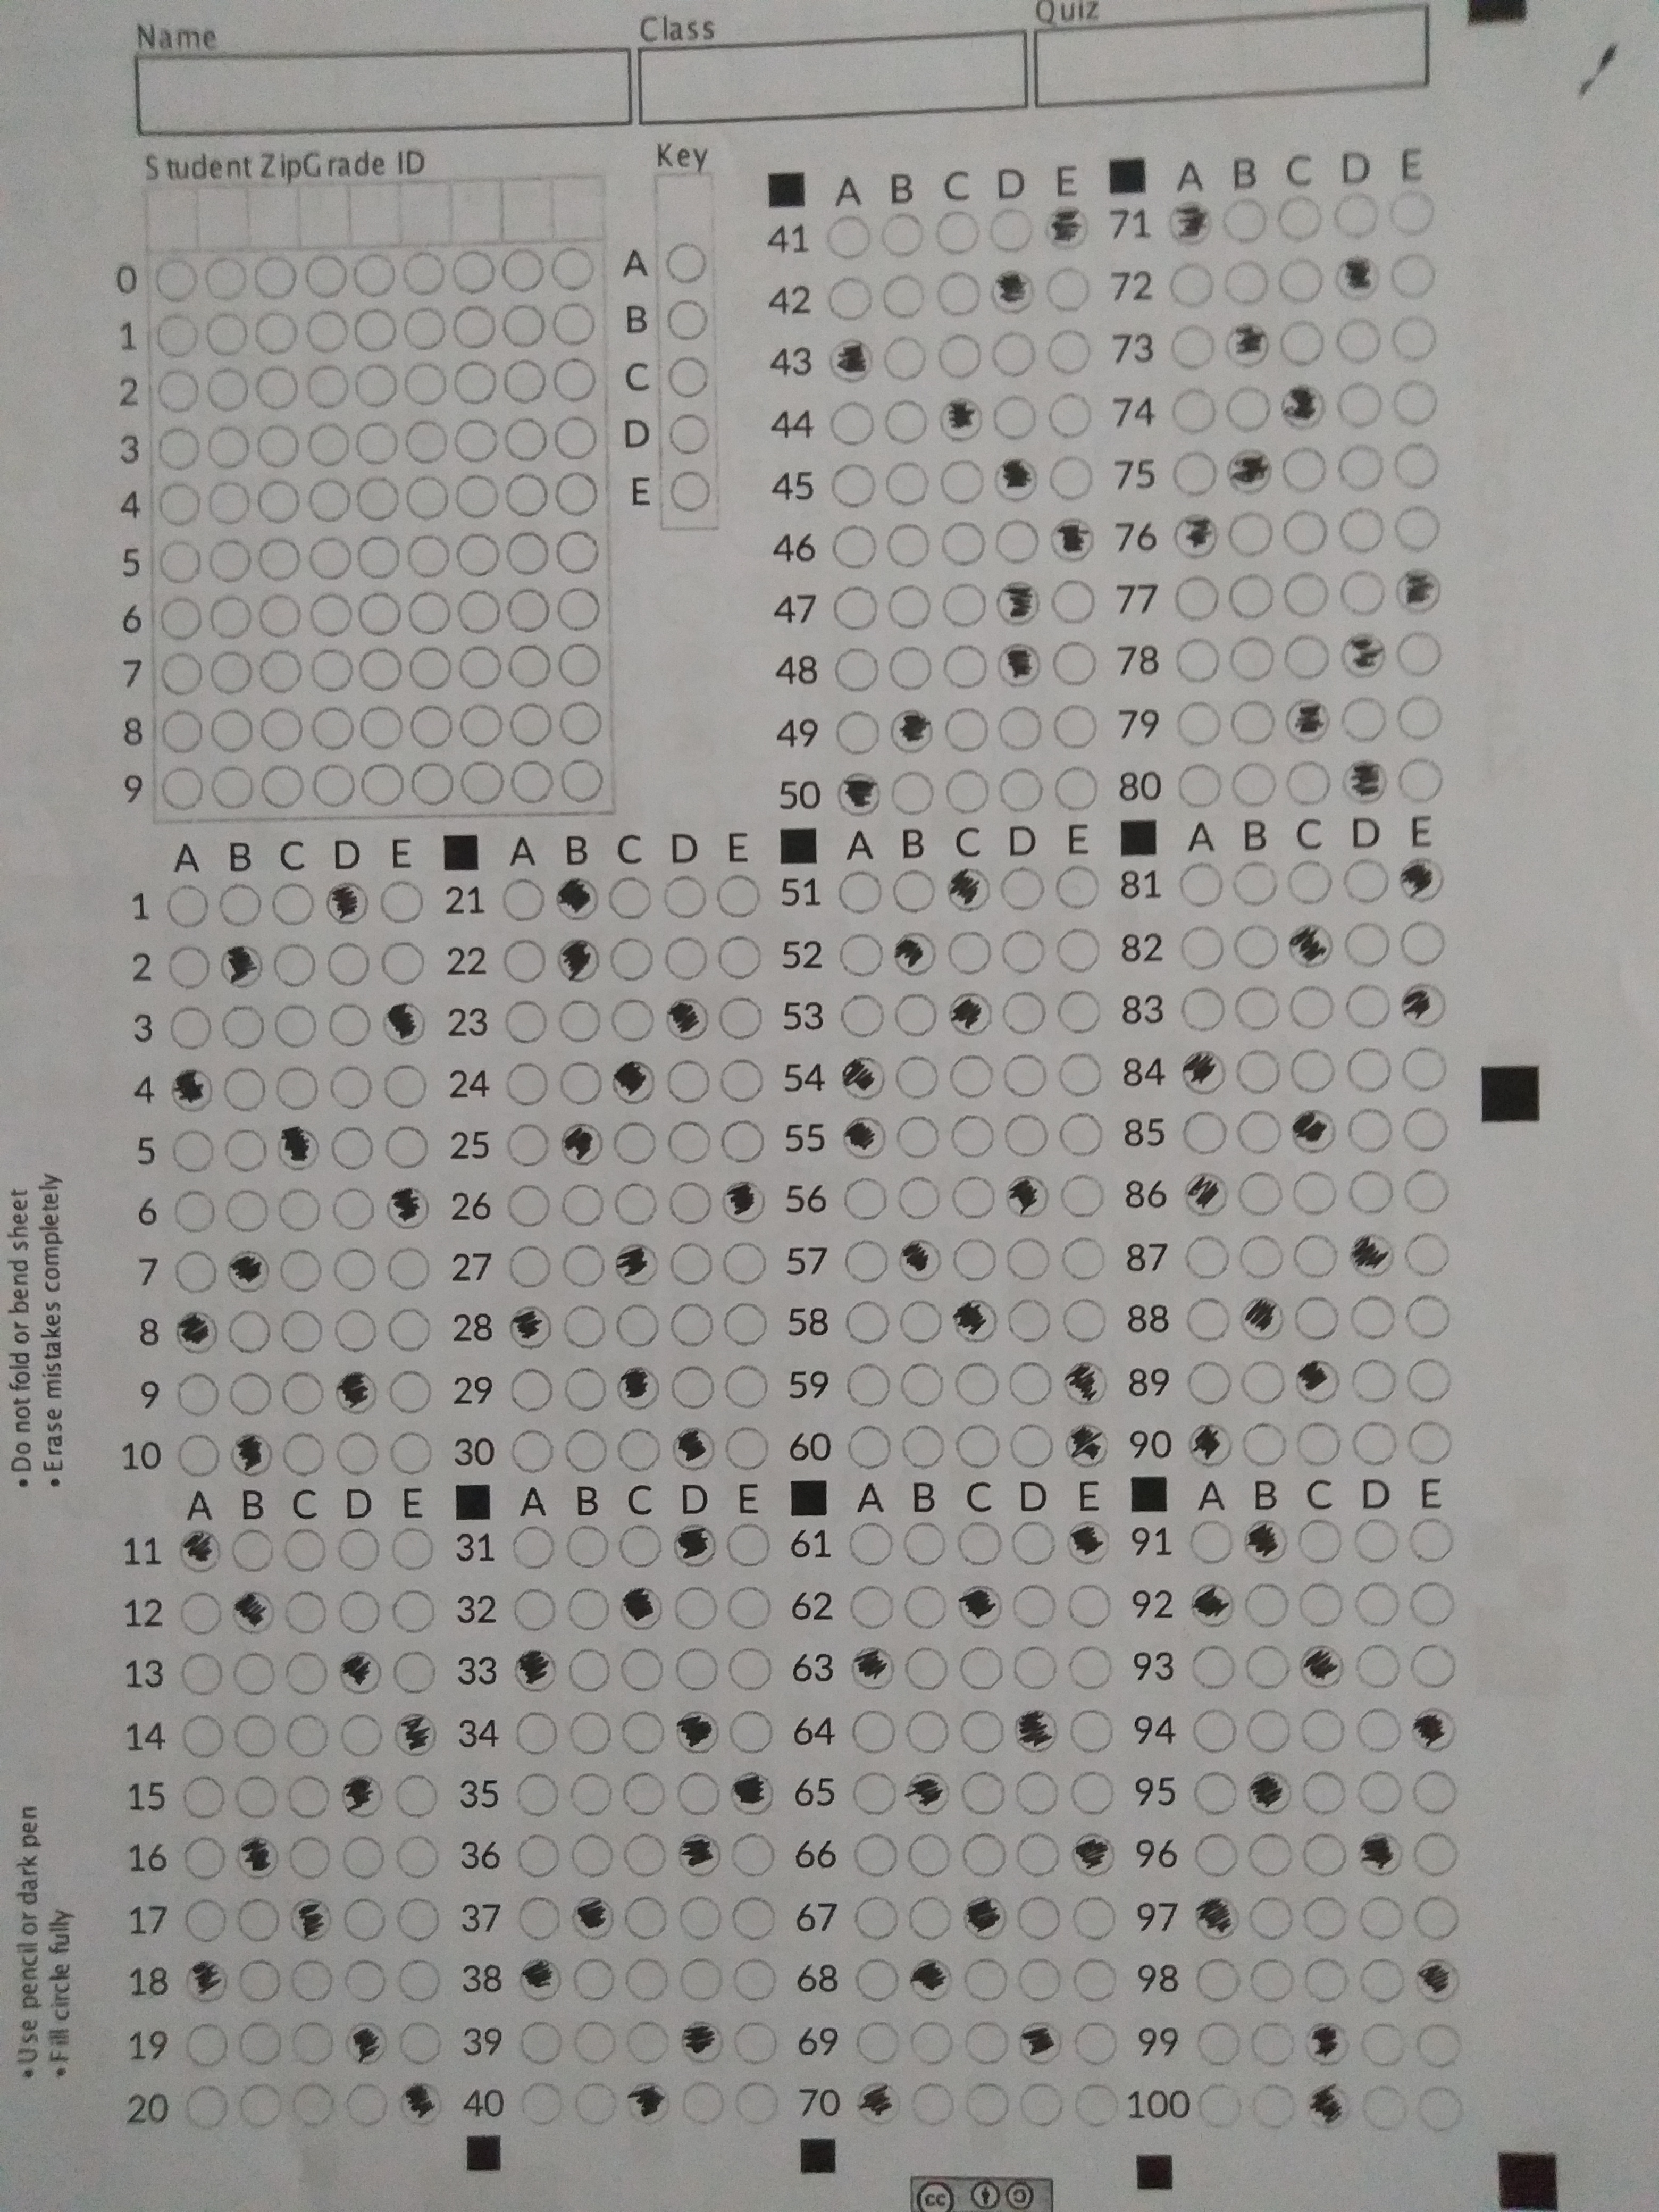not-c: (1363, 2083, 1410, 2132), (352, 253, 397, 298), (253, 254, 298, 300), (204, 256, 249, 301), (157, 540, 202, 585), (305, 364, 350, 409), (254, 366, 300, 411), (204, 368, 249, 413), (406, 533, 451, 578), (455, 533, 500, 578), (504, 416, 549, 462), (404, 420, 450, 465), (354, 420, 399, 465), (556, 641, 601, 686), (455, 474, 500, 519), (460, 759, 505, 805), (507, 702, 552, 747), (509, 758, 554, 803), (359, 646, 404, 691), (159, 650, 204, 695), (505, 589, 551, 634), (357, 590, 403, 636), (274, 1003, 319, 1049), (272, 942, 317, 988), (218, 881, 263, 927), (209, 707, 254, 752), (333, 1247, 378, 1292), (382, 1064, 427, 1109), (167, 1005, 213, 1050), (220, 1003, 265, 1049), (387, 1306, 432, 1352), (279, 1308, 324, 1353), (227, 1308, 272, 1353), (277, 1188, 322, 1233), (179, 1651, 225, 1696), (284, 1649, 329, 1695), (392, 1648, 437, 1693), (235, 1958, 281, 2003), (396, 1895, 441, 1940), (342, 1897, 387, 1942), (235, 1895, 281, 1940), (286, 1834, 331, 1879), (286, 1773, 331, 1818), (181, 1775, 227, 1820), (181, 1712, 227, 1757), (572, 2019, 617, 2064), (734, 2080, 779, 2125), (573, 2080, 619, 2125), (519, 2081, 565, 2127), (185, 2085, 230, 2130), (291, 2081, 336, 2127), (237, 2019, 282, 2064), (516, 1832, 561, 1878), (565, 1428, 610, 1474), (727, 1585, 772, 1630), (620, 1709, 666, 1754), (565, 1524, 610, 1569), (561, 1242, 606, 1287), (505, 1122, 551, 1167), (669, 1242, 714, 1287), (1053, 641, 1098, 686), (610, 998, 655, 1043), (505, 1062, 551, 1108), (1000, 930, 1046, 975), (838, 932, 884, 977), (838, 871, 884, 916), (936, 209, 981, 254), (995, 519, 1040, 564), (885, 462, 931, 507), (829, 401, 875, 446), (945, 768, 990, 813), (1053, 704, 1098, 749), (945, 705, 990, 751), (1403, 1167, 1448, 1212), (1006, 1237, 1051, 1282), (1241, 1359, 1286, 1404), (1187, 1360, 1232, 1406), (1185, 1235, 1230, 1280), (1183, 1109, 1229, 1155), (955, 1423, 1000, 1468), (847, 1425, 892, 1470), (950, 1176, 995, 1221), (896, 1176, 941, 1221), (950, 1113, 995, 1158), (896, 1113, 941, 1158), (894, 1054, 939, 1099), (948, 1052, 993, 1097), (904, 1709, 950, 1754), (904, 1646, 950, 1691), (1061, 1235, 1107, 1280), (1016, 1832, 1061, 1878), (1014, 1770, 1060, 1815), (1359, 1895, 1405, 1940), (1361, 2020, 1406, 2066), (1249, 2019, 1295, 2064), (1406, 1357, 1452, 1402), (1352, 1357, 1398, 1402), (1354, 1580, 1399, 1625), (1190, 1519, 1236, 1564), (1356, 1642, 1401, 1688), (1246, 1644, 1291, 1689), (1300, 1707, 1345, 1752), (1194, 1770, 1239, 1815), (1234, 923, 1279, 968), (1290, 984, 1335, 1029), (1345, 982, 1391, 1028), (1403, 1106, 1448, 1151), (1293, 1233, 1338, 1278), (1176, 637, 1222, 683), (1230, 636, 1276, 681), (1284, 634, 1330, 679), (1178, 763, 1223, 808), (1398, 756, 1443, 801), (1394, 442, 1439, 488), (1229, 573, 1274, 618), (1394, 381, 1439, 427), (1335, 317, 1380, 362), (1279, 320, 1324, 366), (209, 594, 253, 639), (551, 247, 596, 291), (451, 249, 495, 294), (403, 251, 446, 296), (551, 301, 596, 345), (502, 301, 545, 347), (453, 305, 498, 348), (404, 305, 448, 350), (354, 307, 399, 350), (305, 308, 349, 354), (206, 310, 249, 355), (155, 312, 199, 357), (305, 254, 349, 300), (159, 481, 202, 526), (502, 359, 547, 402), (403, 361, 446, 406), (354, 364, 399, 408), (357, 535, 401, 580), (308, 535, 352, 580), (256, 538, 301, 582), (207, 538, 251, 583), (505, 531, 549, 577), (556, 529, 599, 575), (307, 421, 350, 467), (256, 423, 300, 469), (310, 592, 354, 637), (458, 644, 502, 690), (507, 644, 551, 690), (556, 587, 601, 631), (505, 472, 549, 517), (404, 475, 450, 519), (357, 475, 401, 521), (410, 704, 453, 749), (410, 759, 453, 805), (458, 702, 502, 747), (561, 756, 605, 801), (408, 644, 451, 690), (312, 646, 355, 691), (159, 596, 204, 639), (457, 590, 502, 634), (408, 590, 451, 636), (328, 1001, 371, 1047), (380, 939, 423, 984), (167, 946, 211, 991), (272, 881, 315, 927), (167, 883, 211, 928), (261, 763, 305, 808), (160, 765, 204, 810), (361, 705, 406, 749), (310, 705, 355, 749), (258, 705, 301, 751), (279, 1249, 324, 1292), (387, 1245, 430, 1291), (173, 1188, 216, 1233), (331, 1123, 375, 1169), (383, 1125, 429, 1169), (329, 1064, 373, 1109), (223, 1066, 267, 1111), (390, 1526, 434, 1571), (284, 1526, 328, 1571), (230, 1527, 275, 1571), (389, 1430, 432, 1475), (335, 1432, 380, 1475), (282, 1430, 326, 1475), (176, 1371, 220, 1416), (389, 1369, 432, 1414), (225, 1188, 268, 1233), (284, 1590, 329, 1634), (338, 1588, 382, 1634), (392, 1588, 436, 1634), (230, 1371, 274, 1416), (281, 1371, 326, 1414), (185, 2020, 228, 2066), (289, 1958, 335, 2001), (343, 1956, 387, 2001), (397, 1958, 441, 2003), (394, 1834, 439, 1878), (185, 1897, 228, 1942), (183, 1836, 227, 1881), (234, 1775, 279, 1818), (732, 1956, 775, 2001), (734, 2019, 777, 2064), (627, 2019, 671, 2064), (519, 2020, 563, 2066), (239, 2083, 282, 2128), (345, 2081, 389, 2127), (399, 2020, 443, 2066), (291, 2019, 335, 2064), (728, 1646, 772, 1691), (728, 1709, 772, 1754), (514, 1710, 558, 1756), (676, 1770, 720, 1815), (622, 1771, 666, 1817), (568, 1771, 613, 1815), (732, 1831, 775, 1876), (732, 1895, 775, 1940), (678, 1895, 723, 1939), (629, 1893, 673, 1939), (563, 1366, 606, 1411), (509, 1367, 554, 1411), (512, 1526, 556, 1571), (727, 1521, 770, 1566), (511, 1428, 554, 1474), (674, 1583, 718, 1629), (566, 1587, 610, 1632), (512, 1587, 556, 1632), (568, 1648, 612, 1693), (620, 1646, 664, 1691), (674, 1646, 718, 1691), (568, 1710, 612, 1756), (507, 1183, 551, 1228), (561, 1181, 605, 1226), (615, 1305, 660, 1348), (619, 1522, 662, 1568), (610, 935, 653, 981), (504, 939, 549, 982), (718, 996, 762, 1042), (667, 1059, 711, 1104), (720, 1057, 763, 1103), (667, 1118, 711, 1163), (721, 1118, 765, 1163), (613, 1179, 657, 1224), (669, 1179, 713, 1224), (1009, 1360, 1053, 1406), (842, 993, 885, 1038), (946, 930, 990, 975), (1056, 864, 1100, 909), (1000, 866, 1044, 911), (892, 867, 936, 913), (718, 935, 762, 981), (664, 935, 708, 981), (608, 873, 653, 916), (939, 333, 983, 378), (1047, 266, 1091, 312), (938, 272, 981, 317), (882, 273, 925, 319), (828, 214, 871, 260), (669, 469, 713, 514), (667, 411, 711, 456), (667, 352, 711, 397), (666, 296, 709, 341), (833, 585, 877, 631), (943, 521, 986, 566), (885, 521, 929, 566), (831, 524, 877, 568), (1049, 456, 1093, 502), (939, 460, 983, 505), (1047, 394, 1093, 437), (993, 395, 1039, 439), (1047, 327, 1091, 373), (992, 331, 1035, 376), (999, 766, 1042, 812), (997, 705, 1042, 749), (943, 644, 986, 690), (889, 644, 932, 690), (835, 646, 878, 691), (1051, 578, 1094, 624), (943, 582, 986, 627), (1349, 1169, 1392, 1214), (1007, 1298, 1053, 1341), (1291, 1049, 1335, 1094), (1241, 1233, 1284, 1278), (1237, 1109, 1281, 1155), (1187, 1296, 1230, 1341), (1237, 1170, 1283, 1214), (901, 1425, 946, 1468), (1009, 1423, 1053, 1468), (951, 1237, 997, 1280), (955, 1360, 999, 1406), (845, 1238, 889, 1284), (843, 1176, 887, 1221), (1060, 1111, 1103, 1157), (1004, 1111, 1047, 1157), (1002, 1052, 1046, 1097), (1060, 1050, 1103, 1096), (1058, 989, 1101, 1035), (1002, 991, 1046, 1036), (958, 1521, 1002, 1566), (1303, 1893, 1347, 1939), (852, 1771, 896, 1817), (960, 1709, 1004, 1754), (852, 1709, 896, 1754), (962, 1770, 1006, 1815), (958, 1646, 1004, 1689), (1014, 1644, 1058, 1689), (1068, 1646, 1112, 1691), (903, 1522, 946, 1568), (850, 1583, 894, 1629), (849, 1521, 892, 1566), (1063, 1298, 1107, 1343), (1073, 2020, 1117, 2066), (965, 2080, 1009, 2125), (910, 2020, 953, 2066), (910, 2081, 953, 2127), (856, 2019, 899, 2064), (856, 1956, 899, 2001), (908, 1895, 951, 1940), (856, 1895, 899, 1940), (962, 1831, 1006, 1876), (908, 1832, 951, 1878), (1070, 1770, 1115, 1813), (1072, 1897, 1117, 1940), (1016, 1895, 1060, 1940), (1019, 1956, 1063, 2001), (965, 1956, 1009, 2001), (1413, 1832, 1457, 1878), (1248, 1895, 1293, 1939), (1180, 862, 1223, 907), (1415, 1895, 1459, 1940), (1303, 1956, 1347, 2001), (1249, 1956, 1293, 2001), (1197, 1956, 1241, 2001), (1417, 2022, 1460, 2067), (1197, 2020, 1241, 2066), (1295, 1294, 1338, 1339), (1354, 1420, 1398, 1465), (1410, 1517, 1453, 1562), (1408, 1420, 1453, 1463), (1297, 1420, 1342, 1463), (1412, 1580, 1455, 1625), (1243, 1421, 1286, 1467), (1356, 1517, 1399, 1562), (1298, 1517, 1342, 1562), (1298, 1581, 1342, 1627), (1192, 1644, 1236, 1689), (1358, 1709, 1403, 1752), (1412, 1771, 1457, 1815), (1358, 1771, 1403, 1815), (1302, 1770, 1345, 1815), (1302, 1831, 1345, 1876), (1195, 1832, 1239, 1878), (1234, 860, 1277, 906), (1401, 921, 1445, 967), (1405, 1231, 1448, 1277), (1405, 1294, 1448, 1339), (1236, 1049, 1281, 1092), (1349, 1047, 1392, 1092), (1398, 631, 1441, 676), (1342, 697, 1385, 742), (1230, 700, 1276, 744), (1178, 702, 1222, 747), (1286, 759, 1330, 805), (1288, 859, 1331, 904), (1225, 388, 1270, 432), (1283, 446, 1326, 491), (1173, 451, 1216, 496), (1396, 505, 1439, 550), (1340, 507, 1384, 552), (1283, 510, 1328, 554), (1284, 571, 1328, 617), (1176, 575, 1220, 620), (1279, 195, 1323, 240), (1335, 192, 1378, 237), (1391, 254, 1434, 300), (1171, 326, 1216, 369), (1338, 383, 1382, 428), (1279, 258, 1323, 303), (1223, 260, 1269, 303), (1171, 261, 1215, 307), (1223, 199, 1267, 244), (157, 369, 200, 413), (502, 247, 545, 291), (254, 310, 298, 354), (155, 258, 199, 301), (159, 427, 202, 470), (552, 357, 596, 401), (453, 361, 497, 404), (556, 472, 599, 516), (554, 416, 598, 460), (455, 420, 498, 463), (206, 425, 249, 469), (671, 1364, 714, 1407), (256, 479, 300, 523), (308, 477, 352, 521), (207, 481, 251, 524), (160, 709, 204, 752), (558, 700, 601, 744), (260, 650, 303, 693), (209, 650, 253, 693), (258, 592, 301, 636), (326, 942, 369, 986), (380, 881, 423, 925), (211, 765, 254, 808), (312, 763, 355, 806), (361, 761, 404, 805), (331, 1188, 375, 1231), (174, 1251, 218, 1294), (223, 1129, 267, 1172), (171, 1129, 214, 1172), (275, 1066, 319, 1109), (336, 1527, 380, 1571), (178, 1432, 221, 1475), (335, 1308, 378, 1352), (286, 1714, 329, 1757), (340, 1712, 383, 1756), (232, 1651, 275, 1695), (179, 1590, 223, 1634), (342, 1836, 385, 1879), (394, 1773, 437, 1817), (234, 1714, 277, 1757), (680, 1958, 723, 2001), (626, 1956, 669, 2000), (573, 1956, 617, 2000), (681, 2080, 725, 2123), (516, 1773, 559, 1817), (572, 1832, 615, 1876), (624, 1832, 667, 1876), (519, 1895, 563, 1939), (725, 1426, 769, 1470), (617, 1426, 660, 1470), (507, 1245, 551, 1289), (725, 1364, 769, 1407), (723, 1240, 767, 1284), (725, 1303, 769, 1346), (671, 1303, 714, 1346), (563, 1305, 606, 1348), (558, 1000, 601, 1043), (505, 1001, 549, 1045), (559, 1061, 603, 1104), (613, 1122, 657, 1165), (1058, 928, 1101, 972), (718, 874, 762, 918), (662, 874, 706, 918), (502, 878, 545, 921), (884, 336, 927, 380), (828, 275, 871, 319), (990, 207, 1033, 251), (880, 212, 924, 256), (664, 240, 708, 284), (831, 463, 875, 507), (884, 399, 927, 442), (1054, 766, 1098, 810), (890, 770, 934, 813), (836, 711, 880, 754), (887, 585, 931, 629), (1011, 1521, 1054, 1564), (1291, 1170, 1335, 1214), (901, 1362, 945, 1406), (847, 1364, 890, 1407), (899, 1299, 943, 1343), (845, 1299, 889, 1343), (1061, 1174, 1105, 1217), (892, 991, 936, 1035), (1012, 1583, 1056, 1627), (1070, 1709, 1114, 1752), (1068, 1583, 1112, 1627), (904, 1583, 948, 1627), (965, 2020, 1009, 2064), (854, 1832, 897, 1876), (1253, 2083, 1297, 2127), (1197, 2083, 1241, 2127), (1073, 1958, 1117, 2001), (1075, 2083, 1119, 2127), (1019, 2081, 1063, 2125), (1359, 1959, 1403, 2003), (1419, 2087, 1462, 2130), (1244, 1583, 1288, 1627), (1412, 1644, 1455, 1688), (1248, 1709, 1291, 1752), (1192, 1710, 1236, 1754), (1248, 1832, 1291, 1876), (1345, 923, 1389, 967), (1237, 986, 1281, 1029), (1182, 988, 1225, 1031), (1180, 927, 1223, 970), (1403, 1047, 1446, 1090), (1349, 1109, 1392, 1153), (1351, 1294, 1394, 1338), (1398, 695, 1441, 738), (1232, 761, 1276, 805), (1345, 859, 1389, 902), (1173, 388, 1216, 432), (1340, 446, 1384, 489), (1229, 512, 1272, 556), (1342, 571, 1385, 615), (1389, 192, 1432, 235), (1392, 317, 1436, 361)
taken-c: (1223, 446, 1276, 498), (1338, 629, 1389, 679), (826, 336, 877, 385), (833, 768, 882, 819), (1222, 320, 1272, 369), (1277, 383, 1328, 432), (1394, 566, 1445, 615), (1284, 695, 1333, 745), (1340, 756, 1389, 806), (1305, 2081, 1354, 2132), (183, 1958, 232, 2006), (992, 455, 1040, 503), (995, 578, 1044, 627), (997, 641, 1046, 690), (1166, 199, 1215, 247), (1293, 1357, 1342, 1406), (1333, 256, 1384, 303), (1171, 512, 1222, 559), (1178, 1049, 1229, 1096), (1398, 982, 1448, 1029), (847, 1644, 897, 1691), (615, 1362, 662, 1411), (678, 2019, 727, 2066), (676, 1831, 723, 1879), (512, 1648, 559, 1696), (1042, 204, 1091, 251), (990, 266, 1037, 315), (889, 707, 936, 756), (946, 989, 995, 1036), (840, 1113, 889, 1160), (1065, 1420, 1112, 1468), (1291, 1106, 1338, 1155), (1286, 921, 1333, 970), (1398, 857, 1446, 904), (1018, 2019, 1065, 2067), (854, 2080, 903, 2127), (1408, 1705, 1457, 1752), (1302, 2019, 1351, 2066), (324, 880, 371, 927), (380, 1000, 427, 1047), (613, 1240, 660, 1287), (671, 1425, 718, 1472), (627, 2080, 674, 2127), (674, 1709, 721, 1756), (619, 1585, 666, 1632), (671, 1522, 718, 1569), (176, 1529, 223, 1576), (938, 395, 985, 442), (1004, 1174, 1051, 1221), (951, 1298, 999, 1345), (1063, 1359, 1110, 1406), (1187, 1421, 1234, 1468), (1070, 1831, 1117, 1878), (169, 1066, 214, 1115), (612, 1057, 657, 1106), (1047, 517, 1096, 563), (945, 867, 993, 913), (1065, 1521, 1114, 1566), (955, 1583, 1004, 1629), (1298, 1644, 1347, 1689), (1356, 1831, 1405, 1876), (1192, 1895, 1241, 1940), (275, 1125, 321, 1172), (227, 1247, 272, 1294), (173, 1310, 220, 1355), (333, 1369, 380, 1414), (554, 874, 599, 921), (556, 937, 603, 982), (662, 996, 709, 1042), (518, 1958, 565, 2003), (568, 1895, 615, 1940), (392, 1712, 439, 1757), (397, 2081, 444, 2127), (894, 930, 939, 977), (842, 1054, 887, 1101), (896, 1237, 943, 1282), (1349, 1233, 1396, 1278), (1182, 1172, 1229, 1217), (904, 1771, 951, 1817), (962, 1895, 1009, 1940), (908, 1956, 953, 2003), (1243, 1519, 1290, 1564), (1190, 1581, 1236, 1629), (1248, 1770, 1293, 1817), (1415, 1958, 1462, 2003), (1011, 1710, 1060, 1754), (387, 1184, 432, 1230), (230, 1432, 275, 1477), (509, 1305, 554, 1350), (730, 1771, 775, 1817), (340, 1775, 385, 1820), (221, 942, 265, 989), (232, 1588, 275, 1635), (338, 1648, 382, 1695), (1239, 1298, 1286, 1341), (235, 1836, 279, 1881), (343, 2022, 389, 2066), (289, 1897, 331, 1944), (559, 1122, 603, 1165), (721, 1181, 763, 1223)
